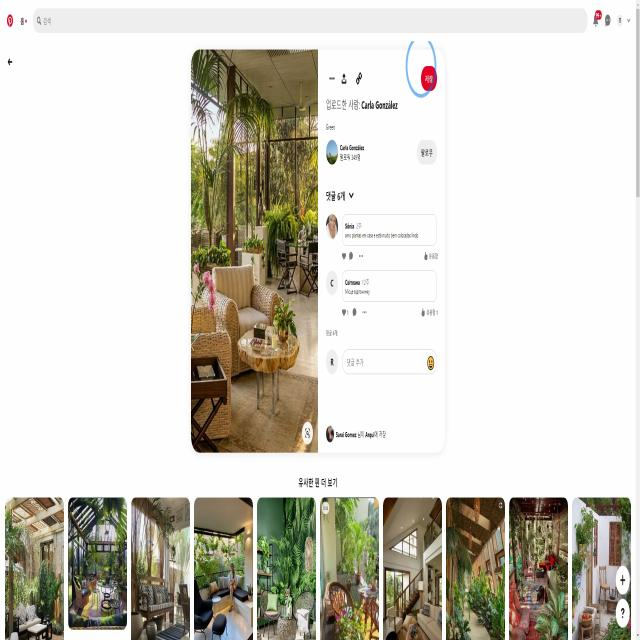menu-bar: (593, 6, 632, 32)
search: (31, 7, 590, 39)
tab-bar: (4, 7, 28, 32)
